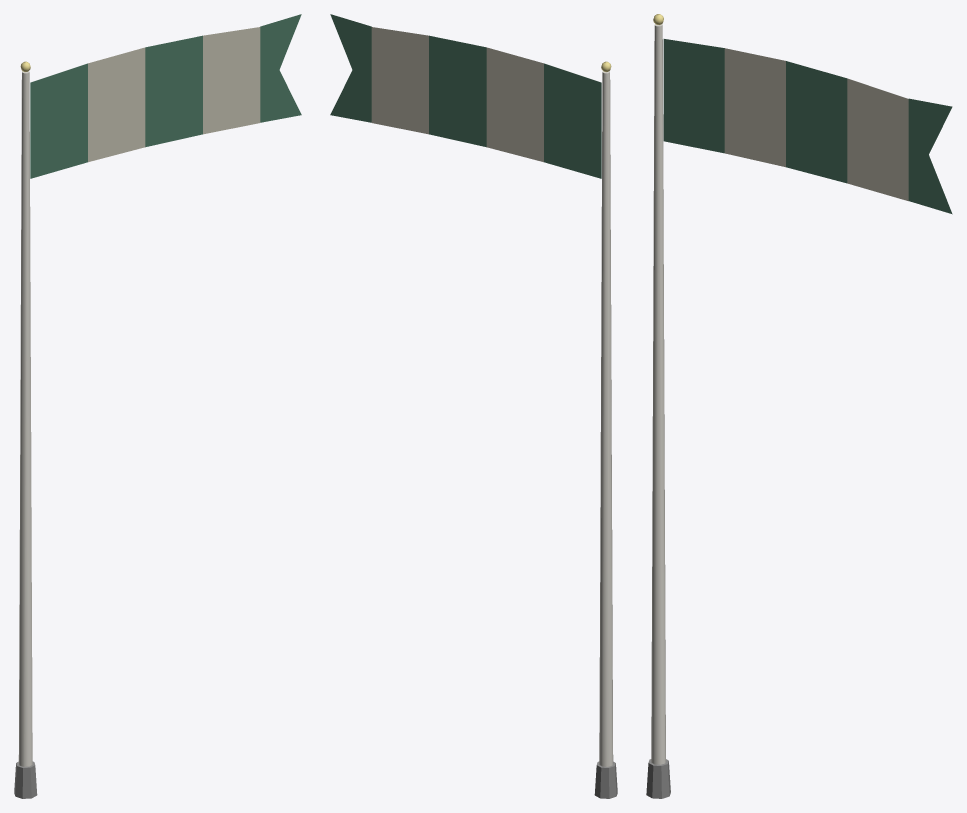
File: festival_flag_a.glb
The picture shows the model from 3 angles, left to right: view 1: azimuth 30°, elevation 25°; view 2: azimuth 150°, elevation 25°; view 3: azimuth 330°, elevation 25°; orthographic projection. The views are drawn at different scales.
Visible parts, largest first — view 1: body; view 2: body; view 3: body.
Part boxes in pixels (x1,y1,x2,y2): body: (14,14,301,798); body: (330,14,617,798); body: (646,14,952,798).
Size of what is drawn, in the model's own units: 2.49 by 6.08 by 0.18.
